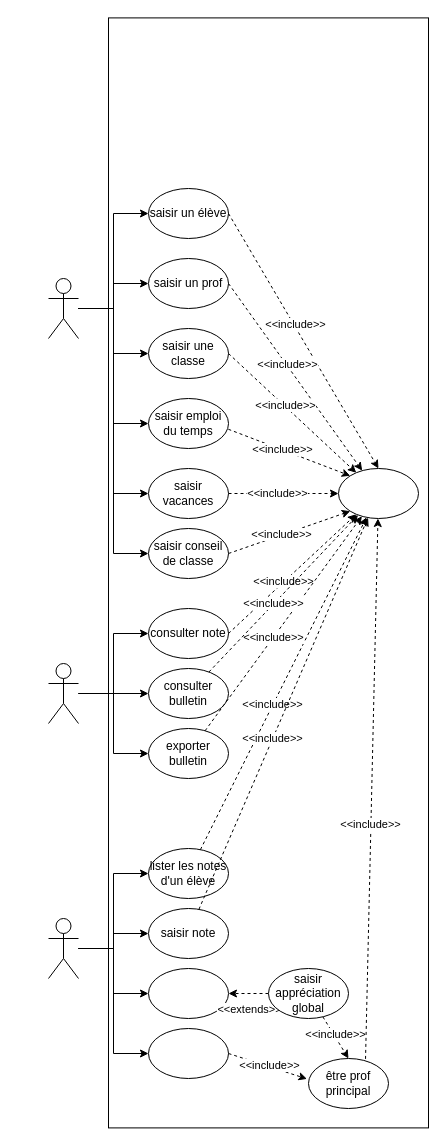
Image size: 446x1145. Some labels were removed from this diagram. Here are the shapes that lost their labels. From the top down, the box of each, then its label:
(48, 278, 78, 338): équipe dirigeante
(338, 468, 418, 518): s'autentifier
(48, 662, 78, 724): élèves parents d'élèves
(48, 918, 78, 978): prof
(148, 968, 228, 1018): saisir appréciation conseil
(148, 1028, 228, 1078): modifier prof
